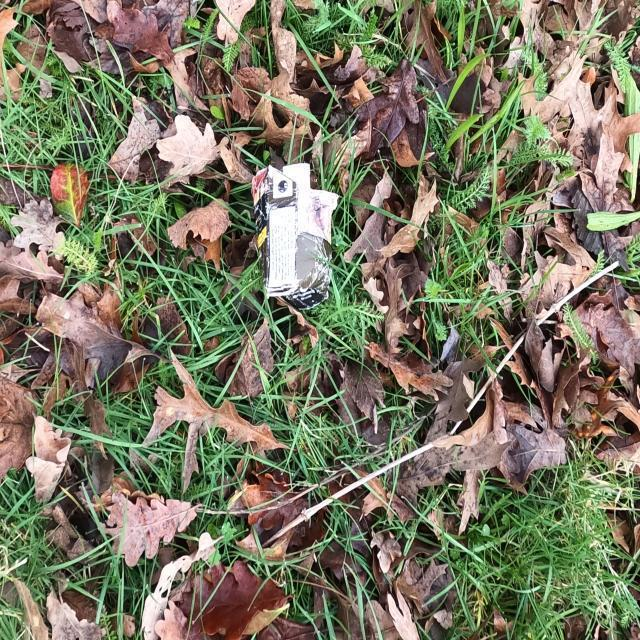Paper: (250, 161, 340, 311)
